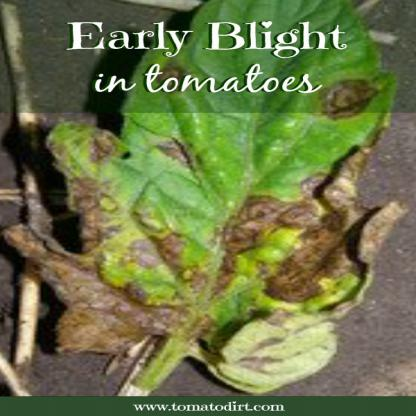tomato early blight leaf: (31, 6, 400, 367)
